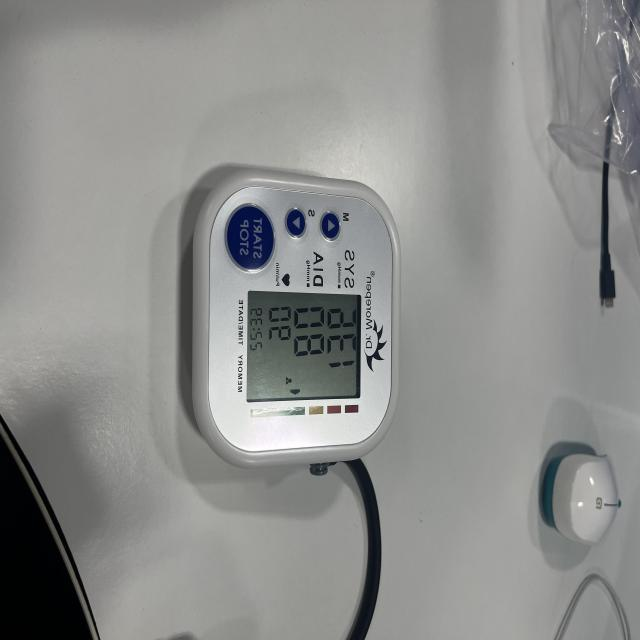bp: (178, 166, 402, 469)
